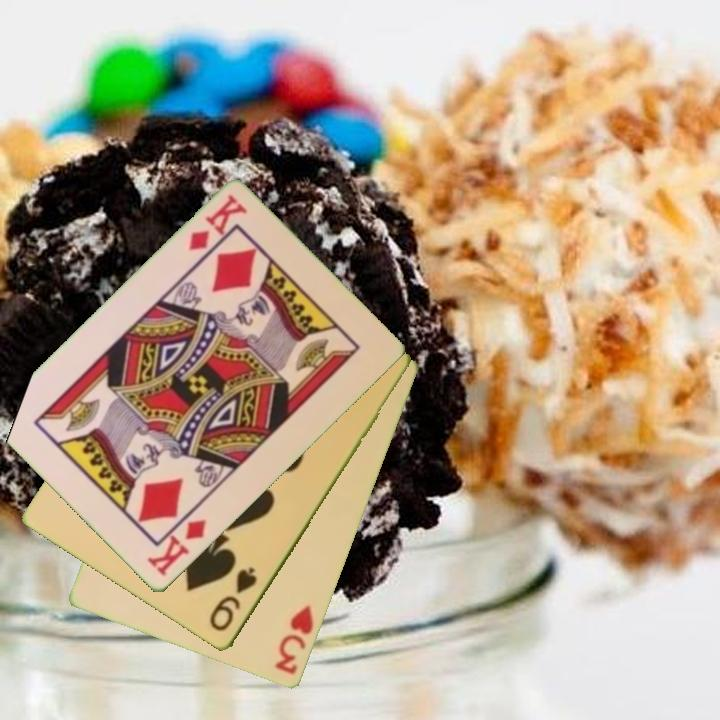3h: (272, 601, 317, 678)
9s: (205, 564, 261, 635)
Kd: (143, 505, 210, 580), (184, 191, 250, 255)
